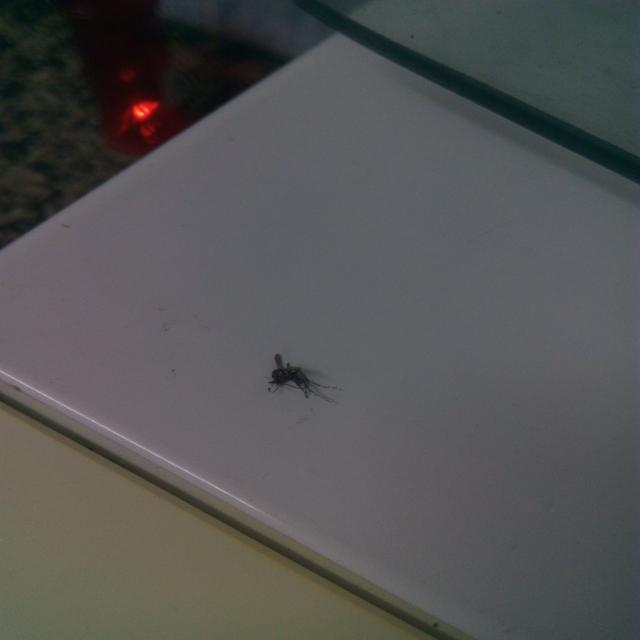albopictus: (252, 348, 346, 408)
